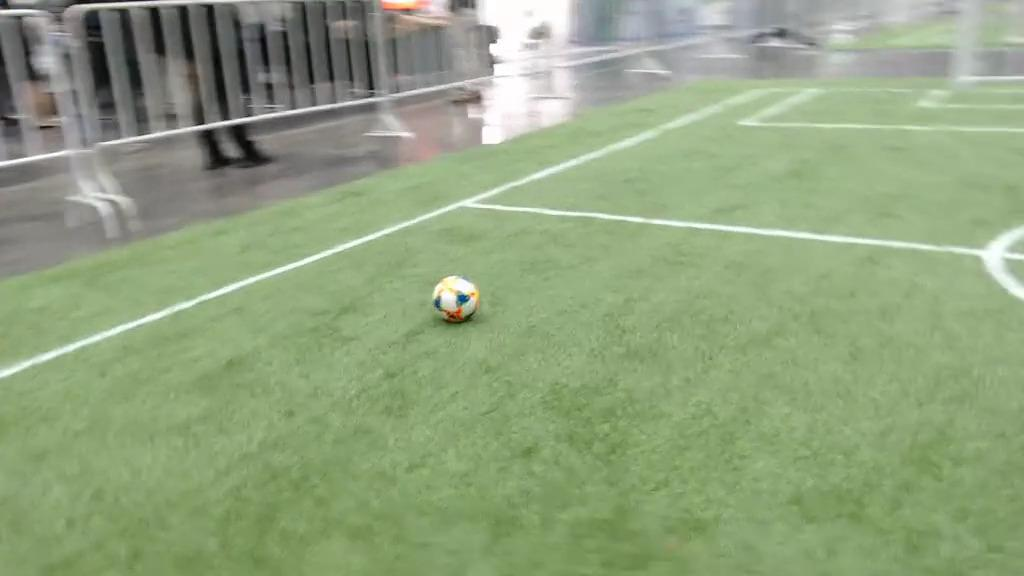ball: (434, 278, 478, 320)
